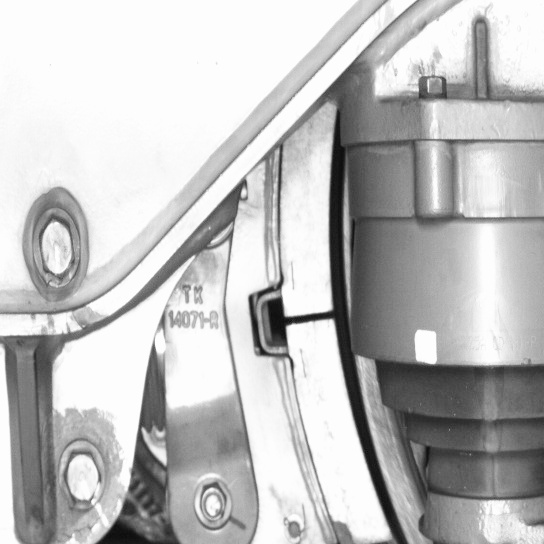KnifeSwitch: (286, 137, 410, 542)
